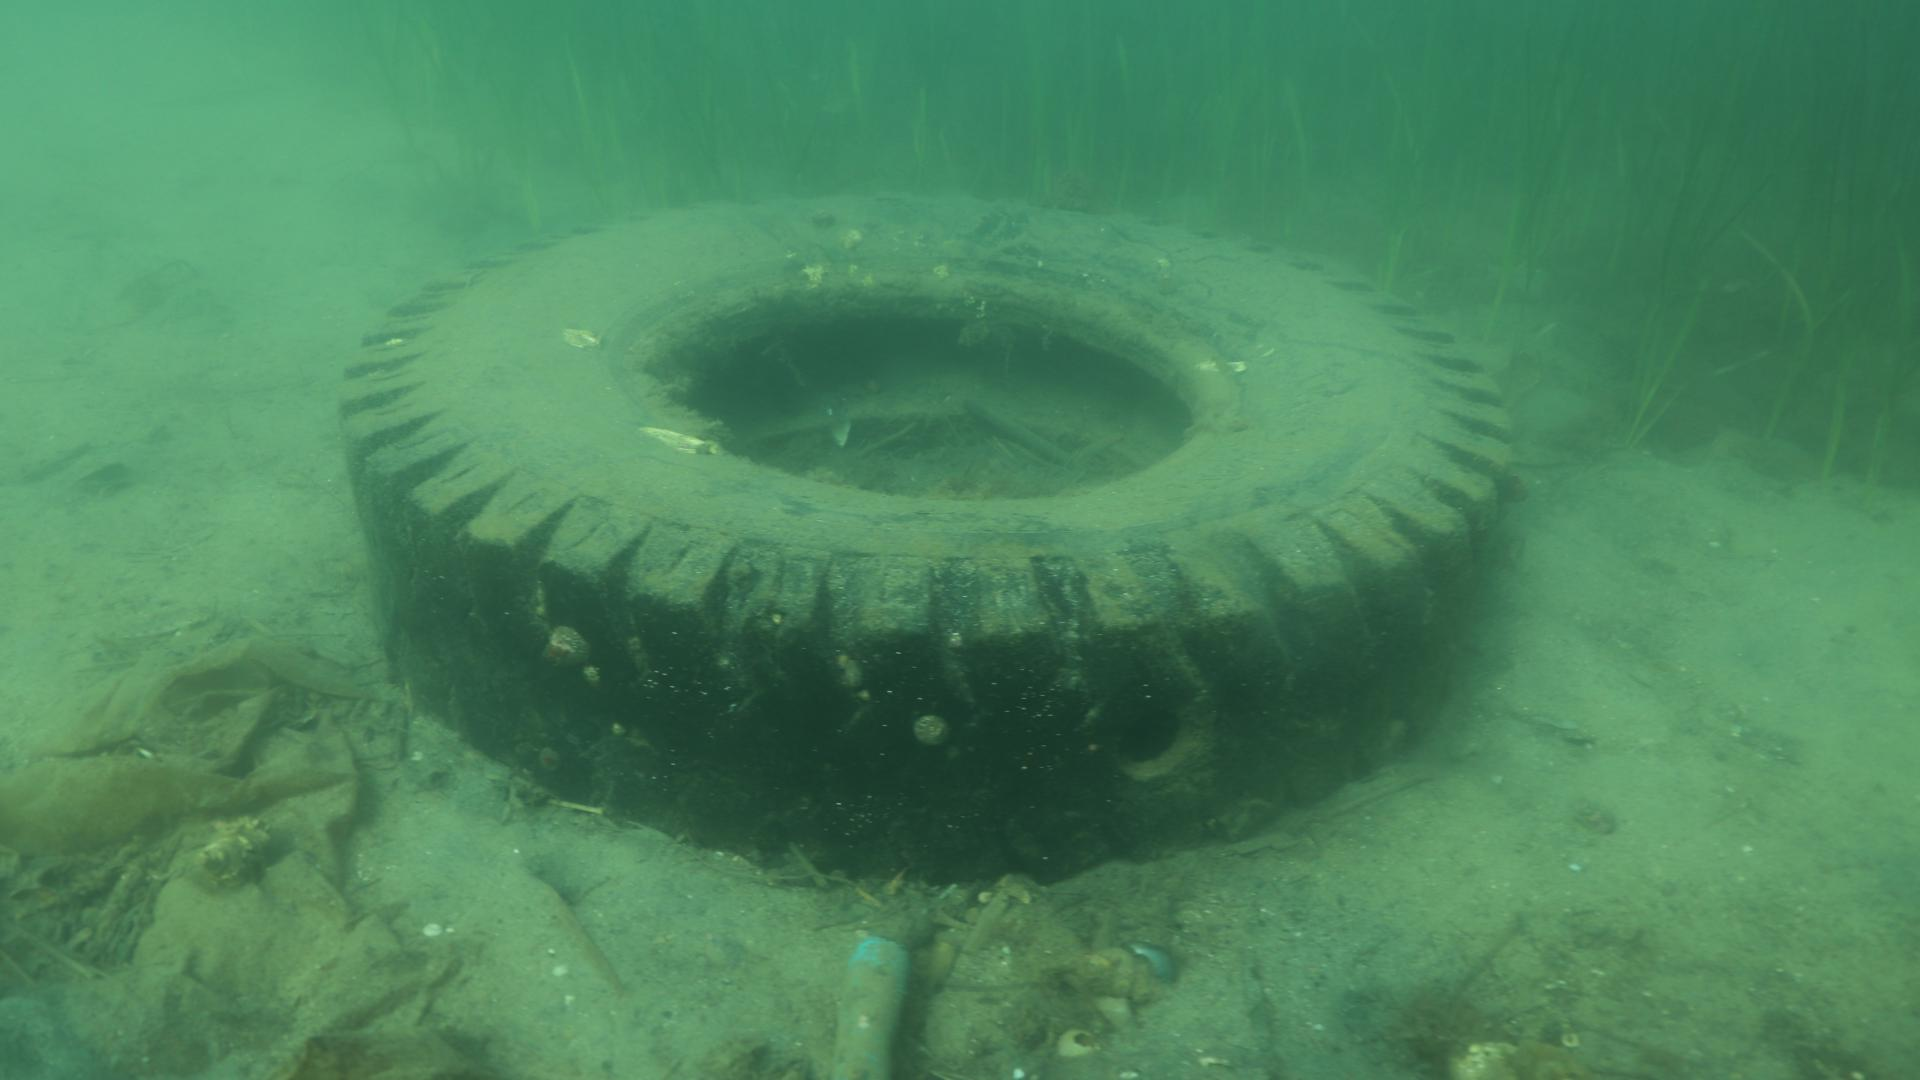tire: (336, 194, 1515, 886)
